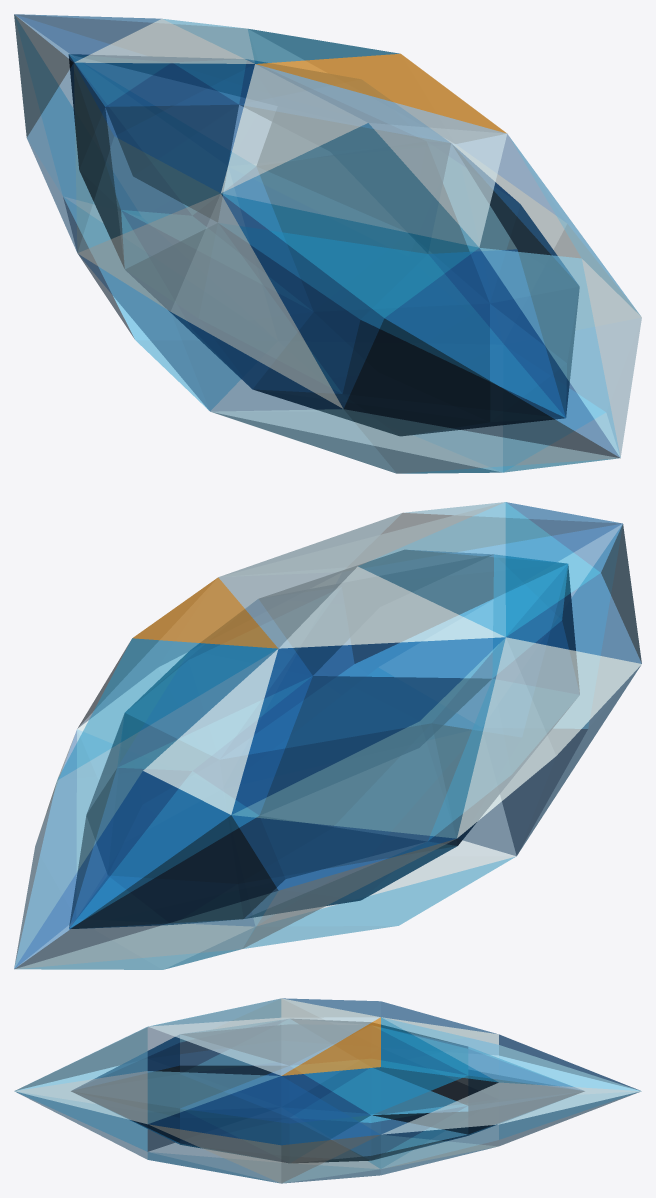
The model's file is lya-crystal.obj.
3 views of the same model, one above another, from view 1: azimuth 30°, elevation 25°; view 2: azimuth 150°, elevation 25°; view 3: azimuth 270°, elevation 25° (orthographic). The views are drawn at different scales.
Visible parts, largest first — view 1: LYA_Crystal; view 2: LYA_Crystal; view 3: LYA_Crystal.
Part boxes in pixels (x1,y1,x2,y2): LYA_Crystal: (14,14,641,473); LYA_Crystal: (14,502,641,969); LYA_Crystal: (14,998,641,1183).
Bounding box in the file's own units: 1.53 × 1.06 × 4.04.
